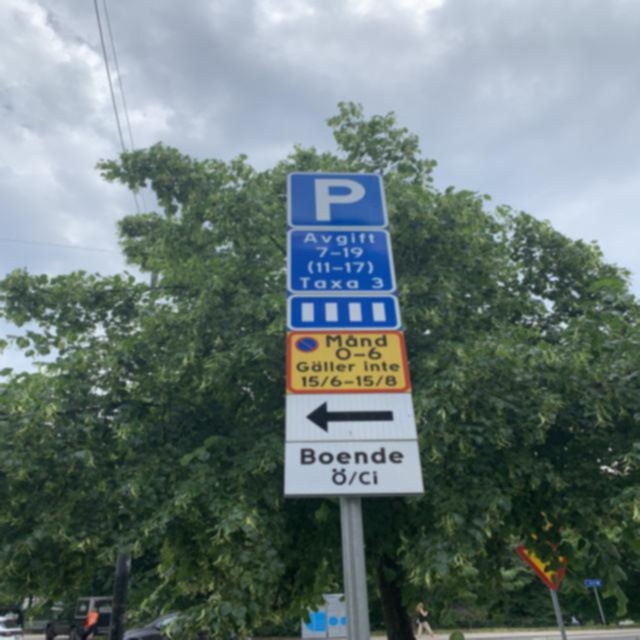P-skylt: (284, 170, 392, 232)
